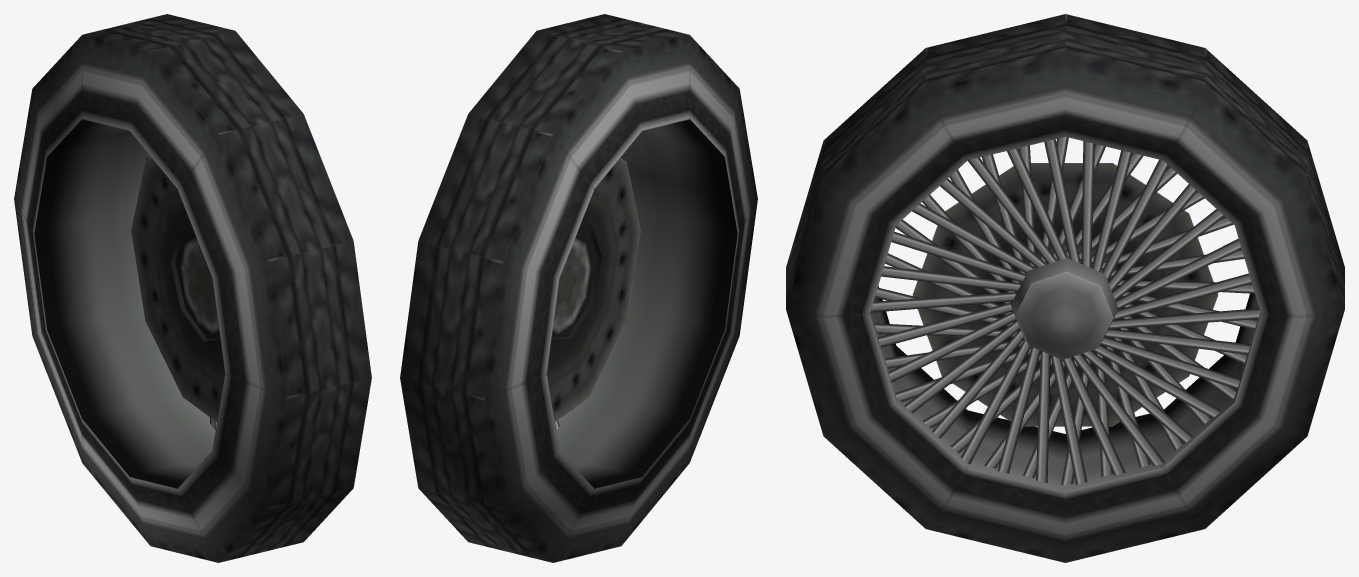
File: wheel_lr1.glb
3 views of the same model, side by side, from view 1: azimuth 30°, elevation 25°; view 2: azimuth 150°, elevation 25°; view 3: azimuth 270°, elevation 25° (orthographic). The views are drawn at different scales.
Visible parts, largest first — view 1: wheel_lr1; view 2: wheel_lr1; view 3: wheel_lr1.
Part boxes in pixels (bbox=[...]): wheel_lr1: bbox=[14, 14, 371, 562]; wheel_lr1: bbox=[400, 14, 757, 562]; wheel_lr1: bbox=[786, 14, 1344, 562].
Size of the model in its own units: 0.2887 by 0.9843 by 0.9843.
2 materials, 2 textured.
